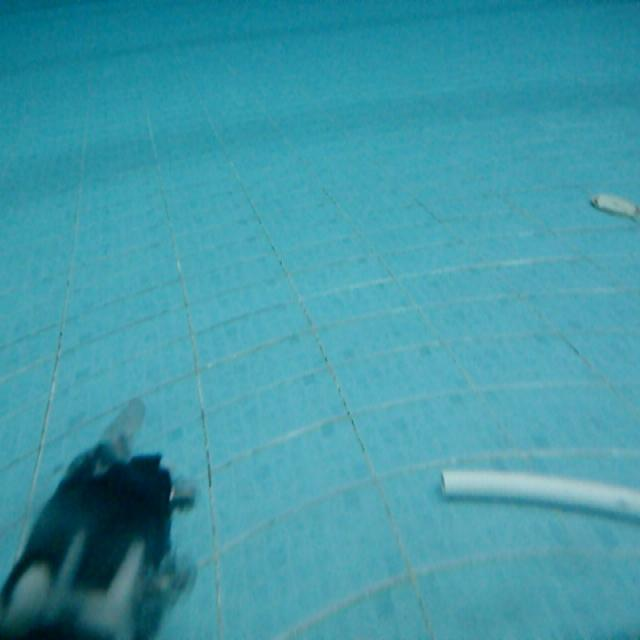Cube: (437, 460, 639, 532)
